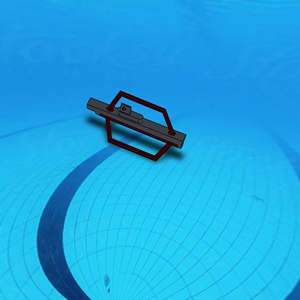submarine: (86, 90, 187, 165)
